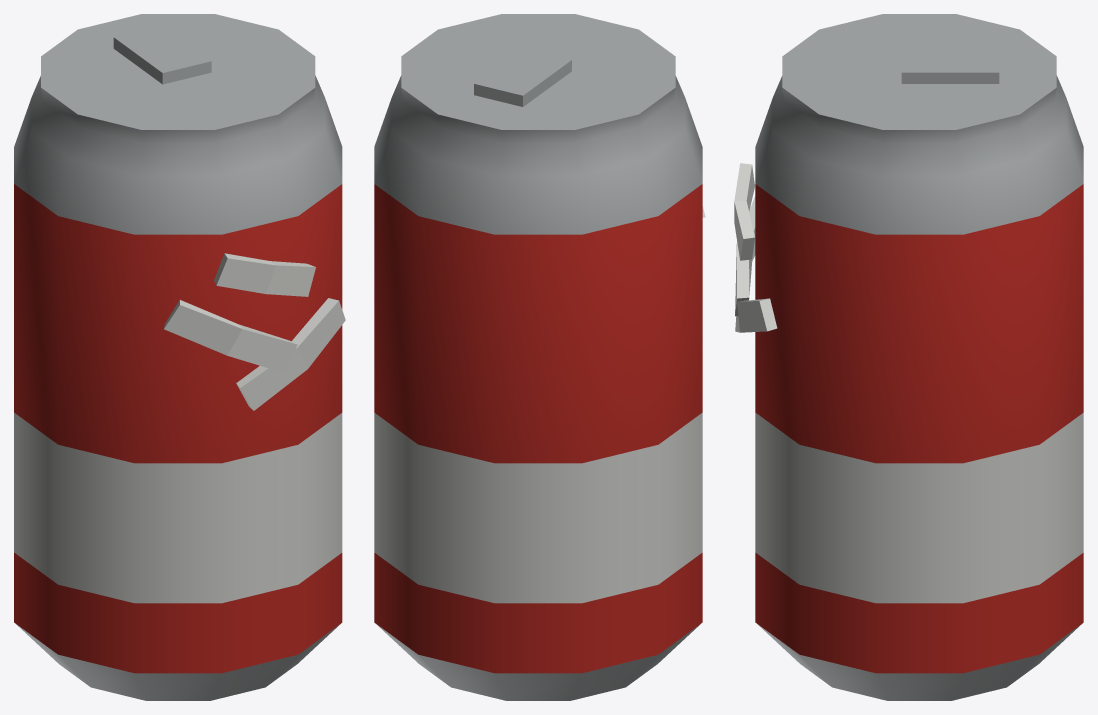
The model's file is hh_lon_nuoc.glb.
3 renders of one model, left to right at view 1: azimuth 30°, elevation 25°; view 2: azimuth 150°, elevation 25°; view 3: azimuth 270°, elevation 25°, orthographic.
Parts seen in each view (by area): view 1: hh_lon_nuoc; view 2: hh_lon_nuoc; view 3: hh_lon_nuoc.
Boxes of the visible parts, x1=… form: hh_lon_nuoc: x1=14, y1=14, x2=345, y2=700; hh_lon_nuoc: x1=374, y1=14, x2=705, y2=700; hh_lon_nuoc: x1=734, y1=14, x2=1083, y2=700.
Bounding box in the file's own units: 0.0638 × 0.1265 × 0.0679.
